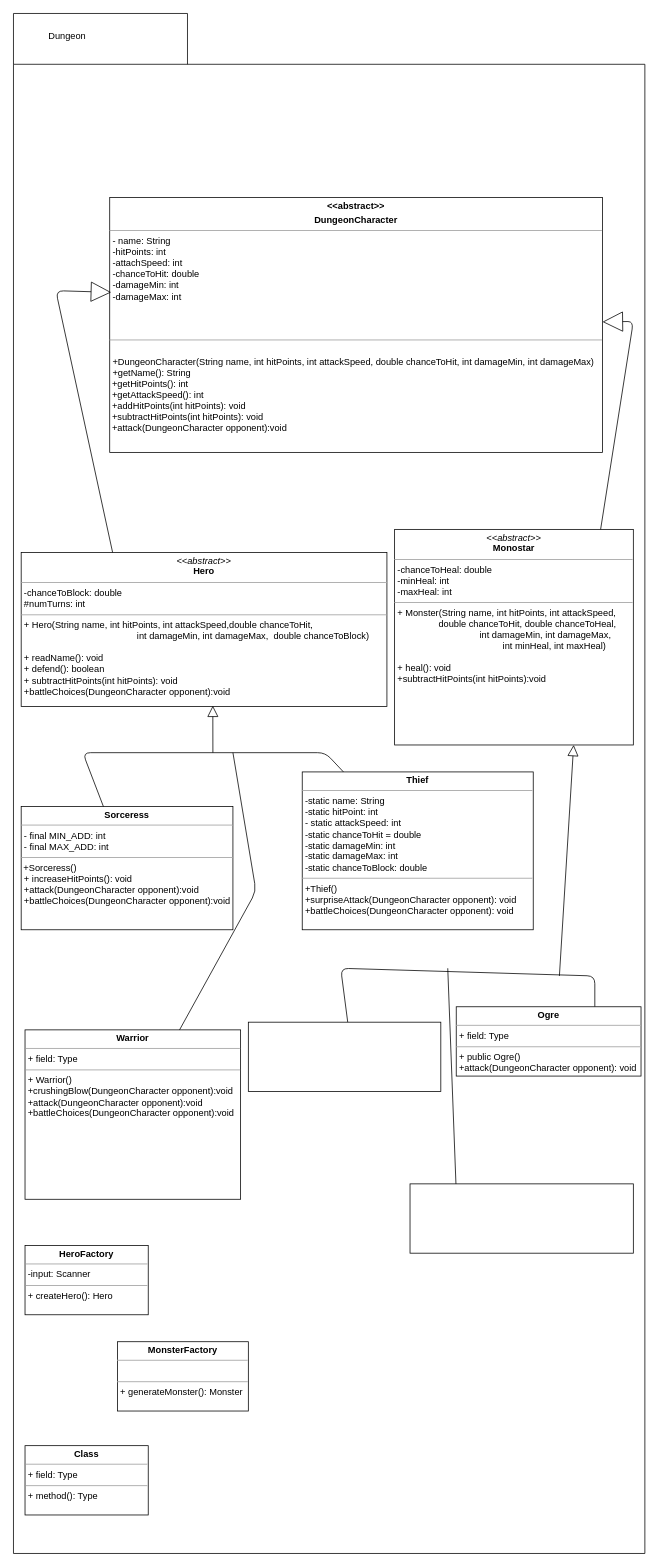
Image size: 667x1567. Some labels were removed from this diagram. Each missing label, with the centre of its shape:
"Gremlin + field: Type + Gremlin() +attack(DungeonCharacter opponent): void" belongs at [521,1218].
"Skeleton + field: Type +Skeleton() +attack(DungeonCharacter opponent): void" belongs at [344,1056].
